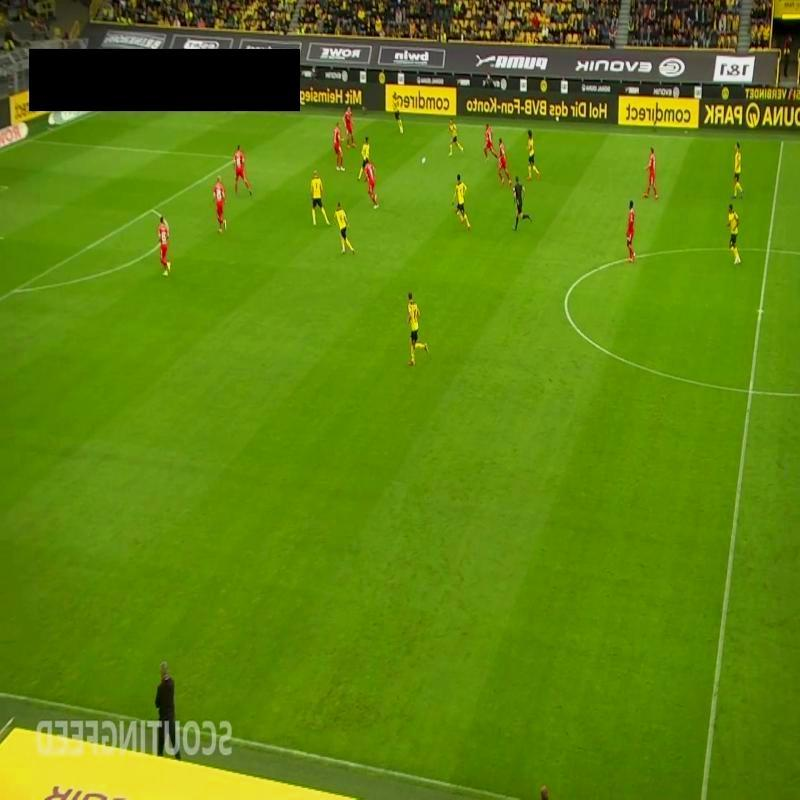10: (145, 203, 159, 216)
11: (4, 282, 24, 301)
13: (776, 134, 790, 148)
14: (761, 242, 777, 258)
15: (742, 384, 760, 400)
2: (18, 132, 39, 150)
7: (0, 181, 14, 195)
9: (232, 151, 246, 165)
c: (561, 289, 576, 303)
